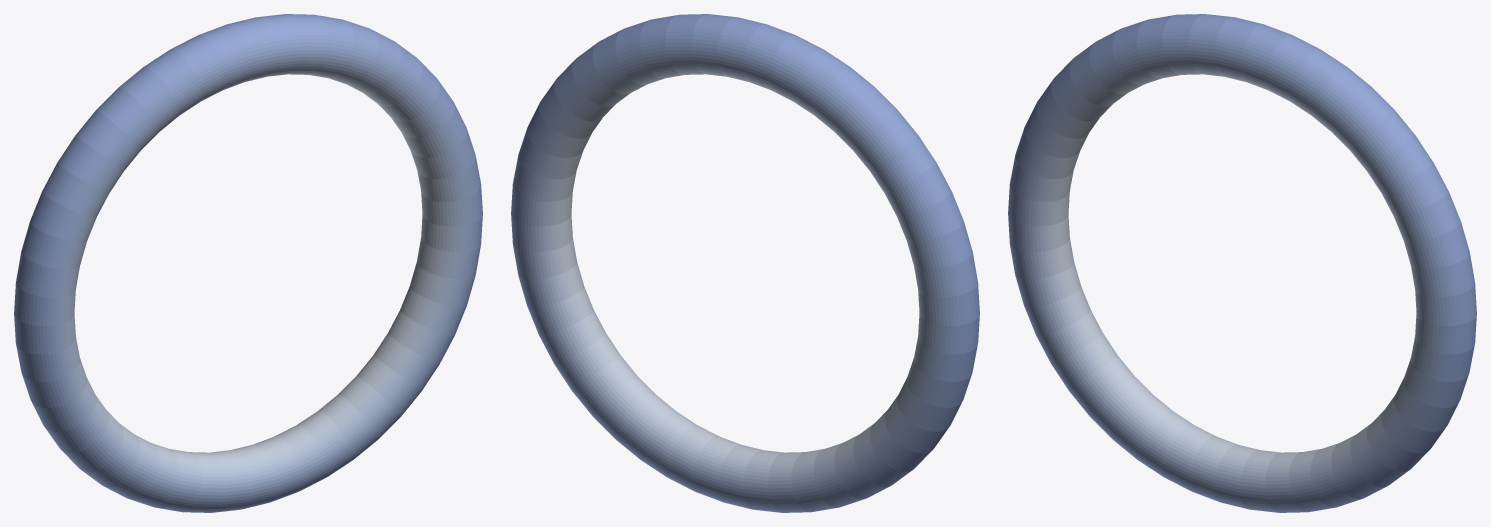
3 renders of one model, left to right at view 1: azimuth 30°, elevation 25°; view 2: azimuth 150°, elevation 25°; view 3: azimuth 330°, elevation 25°, orthographic.
Parts seen in each view (by area): view 1: world; view 2: world; view 3: world.
Boxes of the visible parts, x1,y1,x2,y2 form: world: (14,14,482,512); world: (511,14,979,512); world: (1008,14,1476,512).
Size of the model in its own units: 29.33 by 29.28 by 3.33.
